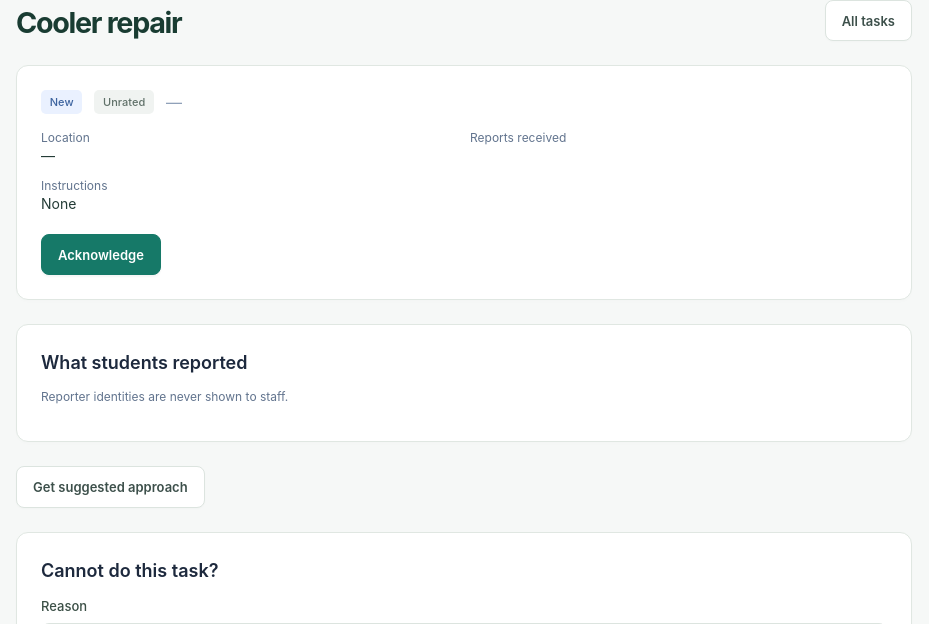
Scenario: loads resolution advice only when staff ask for it
What coordinates should you click on to do the following:
click the button "Get suggested approach"
I would click on:
 (110, 487)
Its box is [16,466,205,508].
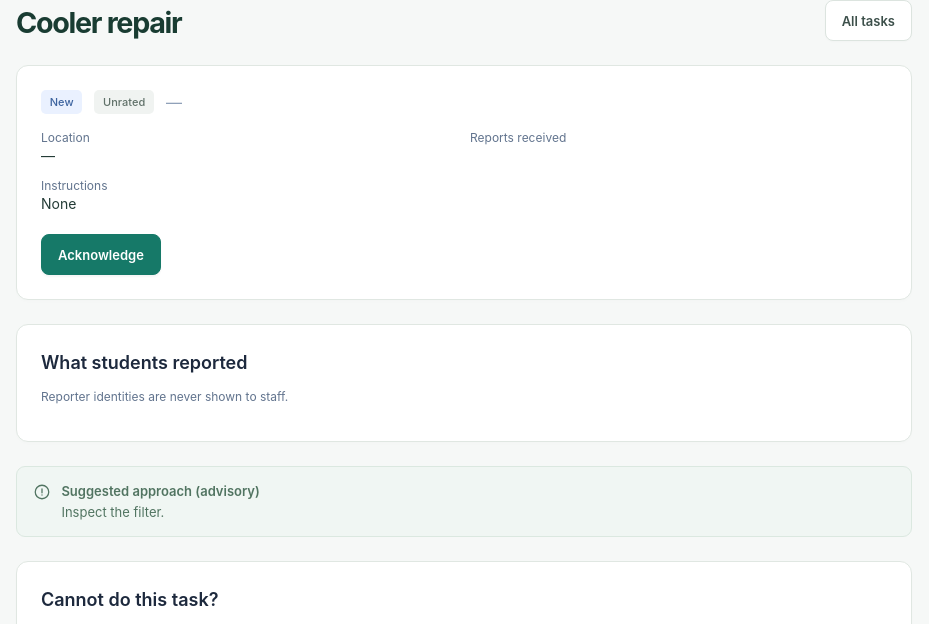
Expected: the text "Inspect the filter." is shown, [61,504,164,520]
